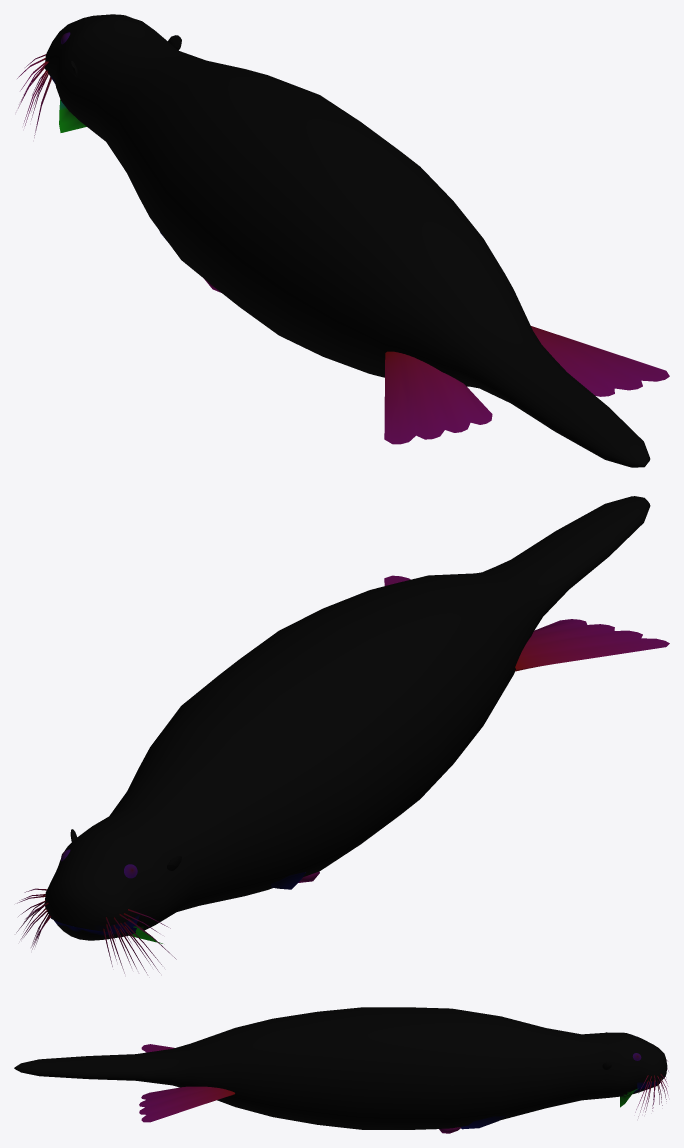
File: sea_otter_game.glb
The picture shows the model from 3 angles, top to bottom: view 1: azimuth 30°, elevation 25°; view 2: azimuth 150°, elevation 25°; view 3: azimuth 270°, elevation 25°; orthographic projection. The views are drawn at different scales.
Parts seen in each view (by area): view 1: sea_otter_game; view 2: sea_otter_game; view 3: sea_otter_game.
Boxes of the visible parts, <box> form: sea_otter_game: <box>17,14,669,467</box>; sea_otter_game: <box>16,496,669,974</box>; sea_otter_game: <box>14,1007,668,1133</box>.
Bounding box in the file's own units: 0.3696 × 0.241 × 1.31.
